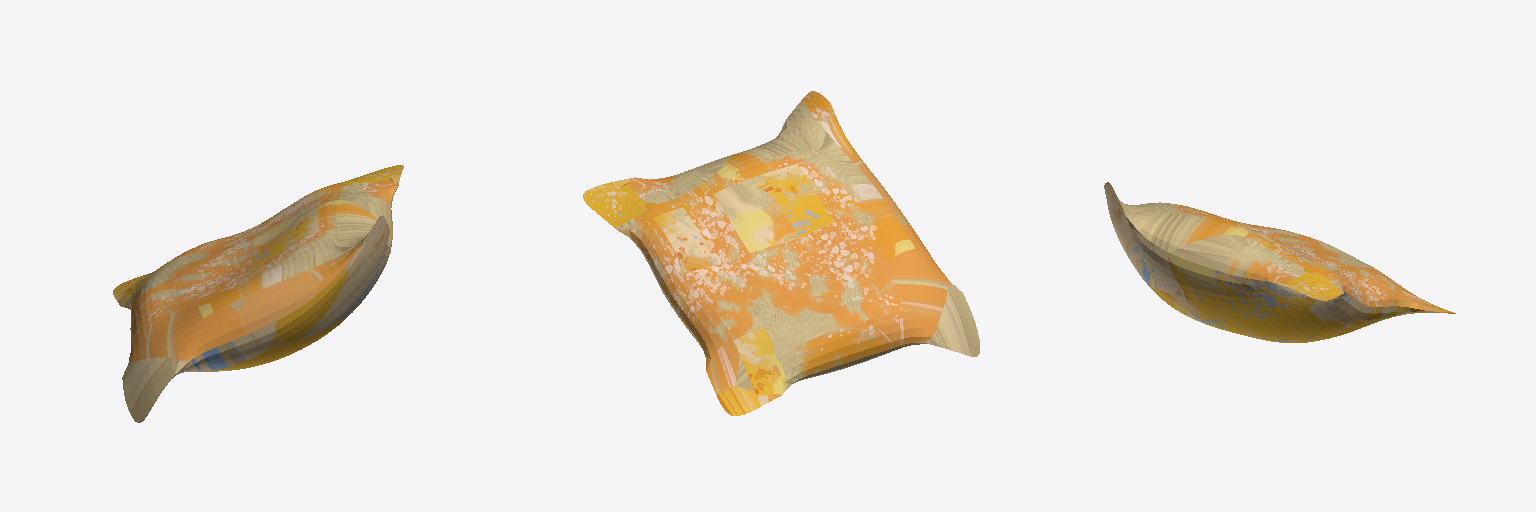
3 views of the same model, side by side, from view 1: azimuth 30°, elevation 25°; view 2: azimuth 150°, elevation 25°; view 3: azimuth 270°, elevation 25° (orthographic).
Visible parts, largest first — view 1: Grid.000_Grid.003; view 2: Grid.000_Grid.003; view 3: Grid.000_Grid.003.
Part boxes in pixels (x1,y1,x2,y2): Grid.000_Grid.003: (113,165,403,422); Grid.000_Grid.003: (583,91,979,415); Grid.000_Grid.003: (1104,182,1455,342).
Size of the model in its own units: 0.7516 by 0.4043 by 0.6943.
Materials: 1 (1 with a texture image).